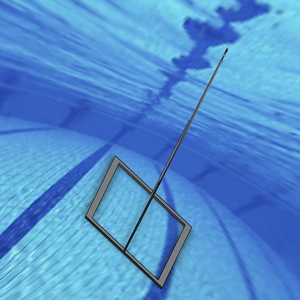circle: (85, 45, 228, 289)
